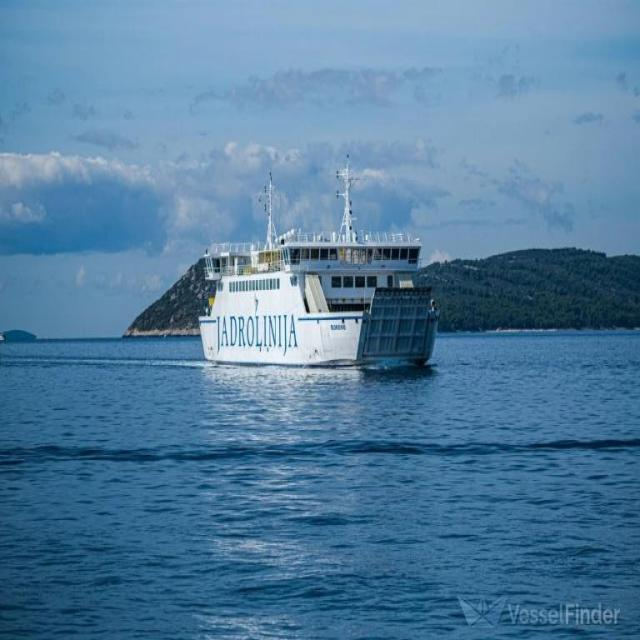PassengerShip: (200, 168, 492, 425)
